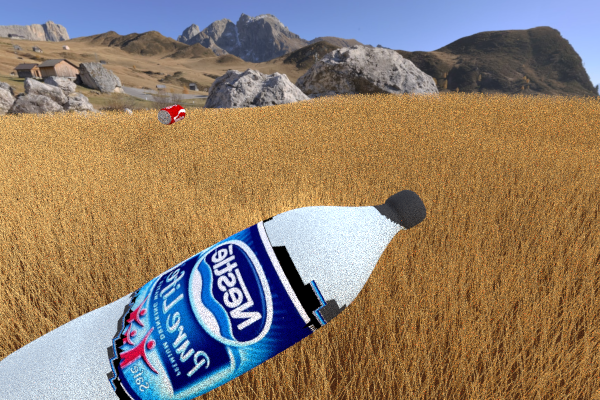bottle: (0, 189, 426, 400)
can: (128, 125, 207, 178), (157, 104, 185, 125)
